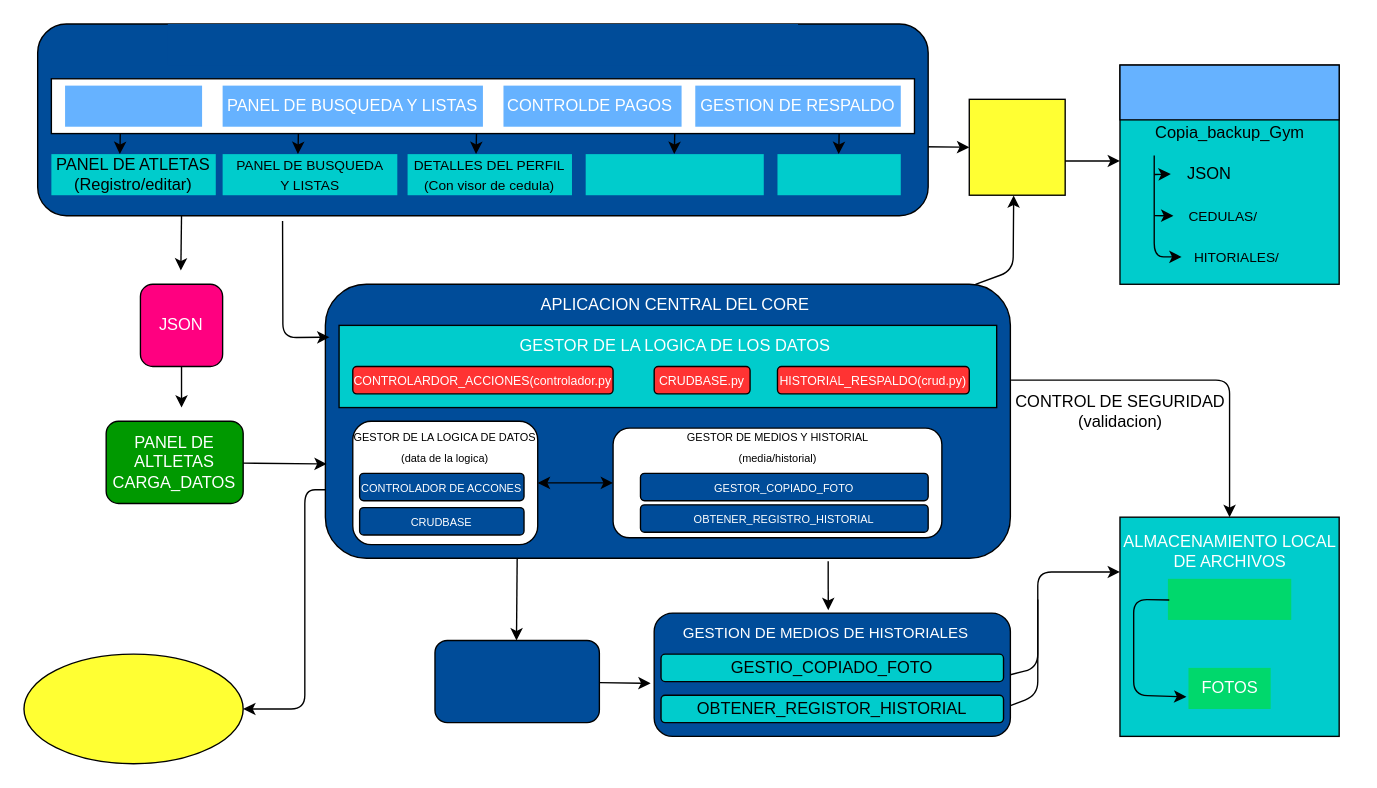
Some shapes in this 1377 by 788 pixel diagram are drawn without their labels. The centre of each missing label's shape, as x and y in pixels:
CLIENTES_GYM_JSON (BASE DE DATOS UNIFICADOS): point (133, 708)
COMANDO BAR: point (132, 105)
GESTION DE RESPALDOS: point (838, 174)
HISTORIAL/: point (1229, 598)
INTERFACE DE LA TERMINAL: point (482, 43)
PANEL DE MEDIOS: point (516, 681)
REPLICADOR DE RESPALDOS (hisrorial/respaldos): point (1016, 146)
UNIDAD DE RESPALDO EXTRENO: point (1229, 92)
VISOR DE HISTORIAL (EVOLUCION): point (674, 174)
